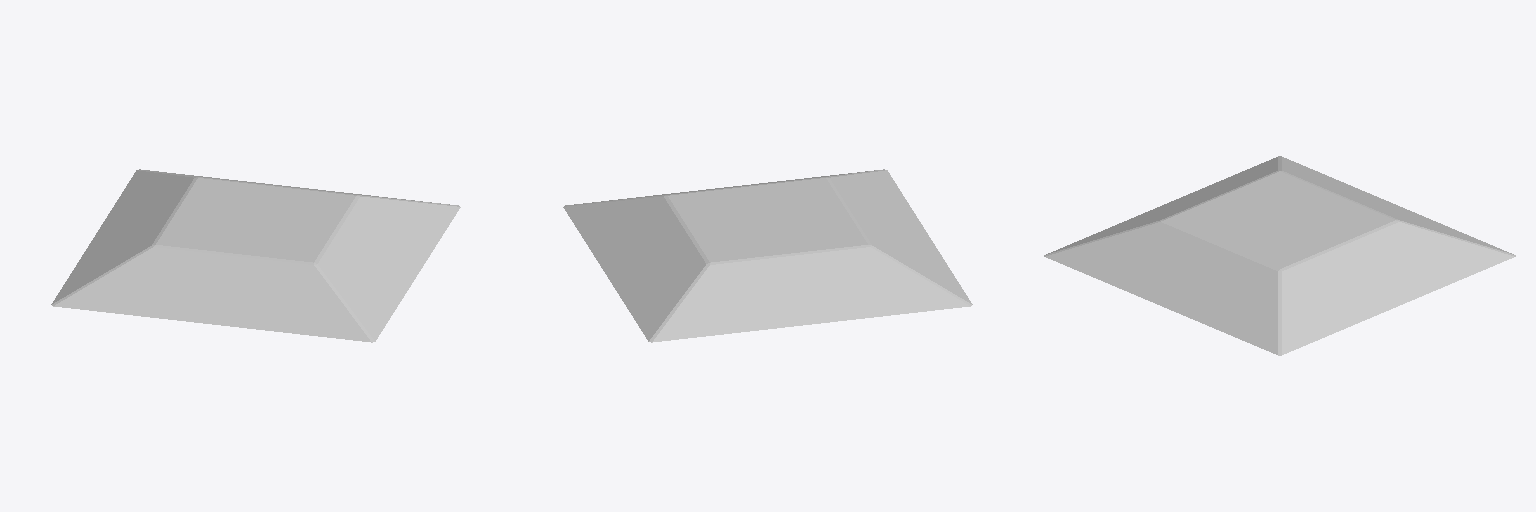
File: gem-4.obj
3 renders of one model, left to right at view 1: azimuth 30°, elevation 25°; view 2: azimuth 150°, elevation 25°; view 3: azimuth 270°, elevation 25°, orthographic.
Visible parts, largest first — view 1: gem_Cube; view 2: gem_Cube; view 3: gem_Cube.
Boxes of the visible parts, <box> form: gem_Cube: <box>51,169,460,342</box>; gem_Cube: <box>563,169,972,342</box>; gem_Cube: <box>1044,156,1515,355</box>.
Size of the model in its own units: 22.97 by 3.85 by 22.97.